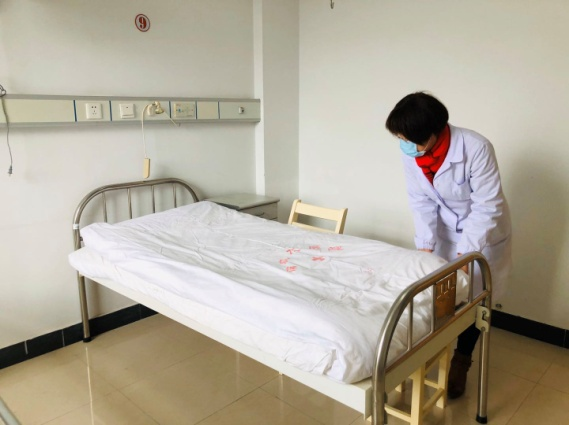correctlyWear: (389, 115, 438, 157)
